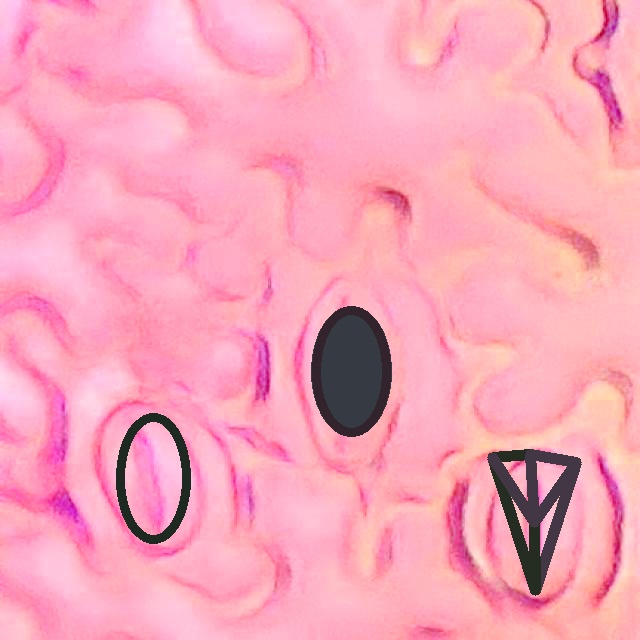open: (488, 450, 580, 595), (311, 306, 391, 436), (115, 412, 190, 543)
